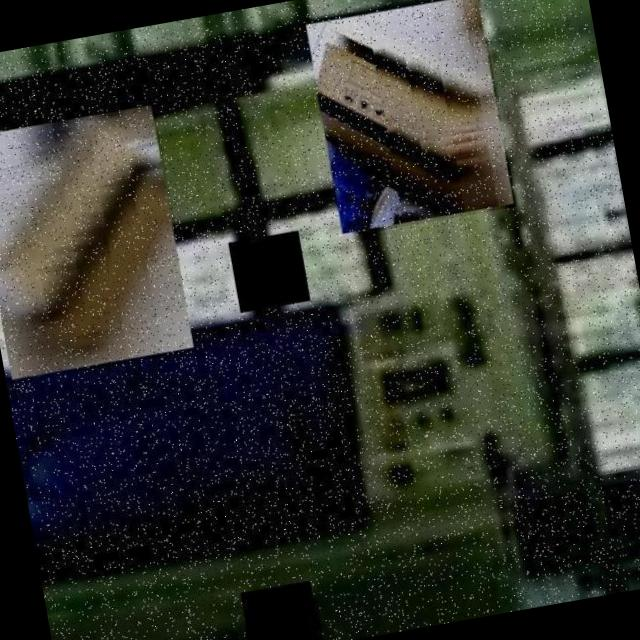box: (0, 100, 197, 383), (303, 0, 516, 237)
